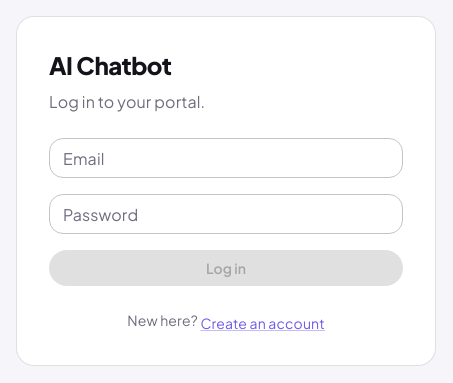
AuthFlow (4.1, 2.9 — stepped auth + client validation) › switches to the signup form (single-purpose steps, not all-at-once)
Click the button with test id "go-signup" at (263, 323), box [200, 313, 325, 333]
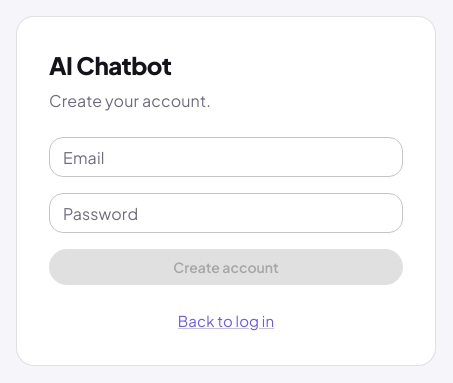
Expected: the button with test id "signup" is shown, [49, 249, 403, 286]
